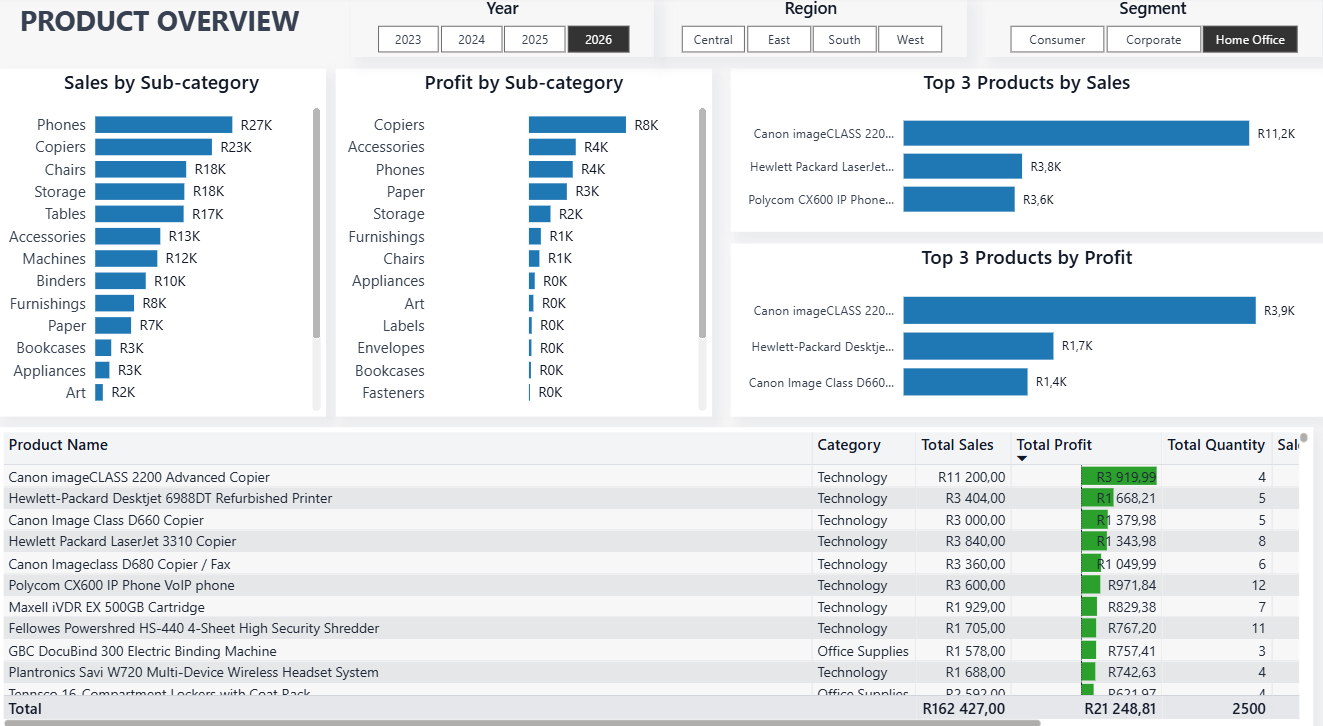

The page's visual inventory and layout, read from the dashboard file:
{"tool":"powerbi","page":{"name":"PRODUCT PERFORMANCE","canvas":[1280,720],"ordinal":1},"visuals":[{"type":"clusteredBarChart","title":"Sales by Sub-category","fields":{"Y":["Orders.Total Sales"],"Category":["Orders.Sub-Category"]},"box":[0,70.4,317.7,335.6],"z":0},{"type":"clusteredBarChart","title":"Profit by Sub-category","fields":{"Y":["Orders.Total Profit"],"Category":["Orders.Sub-Category"]},"box":[327.3,70.4,363.2,335.6],"z":1000},{"type":"clusteredBarChart","title":"Top 3 Products by Sales","fields":{"Category":["Orders.Product Name"],"Y":["Orders.Total Sales"]},"box":[708.5,70.4,571.8,157.4],"z":2000},{"type":"clusteredBarChart","title":"Top 3 Products by Profit","fields":{"Category":["Orders.Product Name"],"Y":["Orders.Total Profit"]},"box":[708.5,238.9,571.8,167.1],"z":3000},{"type":"tableEx","fields":{"Values":["Orders.Product Name","Orders.Category","Orders.Total Sales","Orders.Total Profit","Sum(Orders.Quantity)","Orders.Sales per Unit","Orders.Profit per Order","Orders.Profit Margin %"]},"box":[0,415.7,1270.6,295.6],"z":4000},{"type":"slicer","title":"Year","fields":{"Values":["DateTable.Year"]},"box":[341.1,0,292.8,59.4],"z":5000},{"type":"slicer","title":"Region","fields":{"Values":["Orders.Region"]},"box":[634.3,0,301.6,59.1],"z":6000},{"type":"slicer","title":"Segment","fields":{"Values":["Orders.Segment"]},"box":[952.1,0,327.4,58.9],"z":7000},{"type":"textbox","box":[16.6,0,301.1,59.4],"z":8000}]}

Visuals, with their boxes in screenshot pixels (x1, y1, x2, y2), scaled from the page's 1280x720 canvas onto the 1323x726 screenshot:
"Sales by Sub-category" clusteredBarChart: bbox=(0, 71, 328, 409)
"Profit by Sub-category" clusteredBarChart: bbox=(338, 71, 714, 409)
"Top 3 Products by Sales" clusteredBarChart: bbox=(732, 71, 1322, 230)
"Top 3 Products by Profit" clusteredBarChart: bbox=(732, 241, 1322, 409)
tableEx - Orders.Product Name x Orders.Category: bbox=(0, 419, 1313, 717)
"Year" slicer: bbox=(353, 0, 655, 60)
"Region" slicer: bbox=(656, 0, 967, 60)
"Segment" slicer: bbox=(984, 0, 1322, 59)
textbox: bbox=(17, 0, 328, 60)
